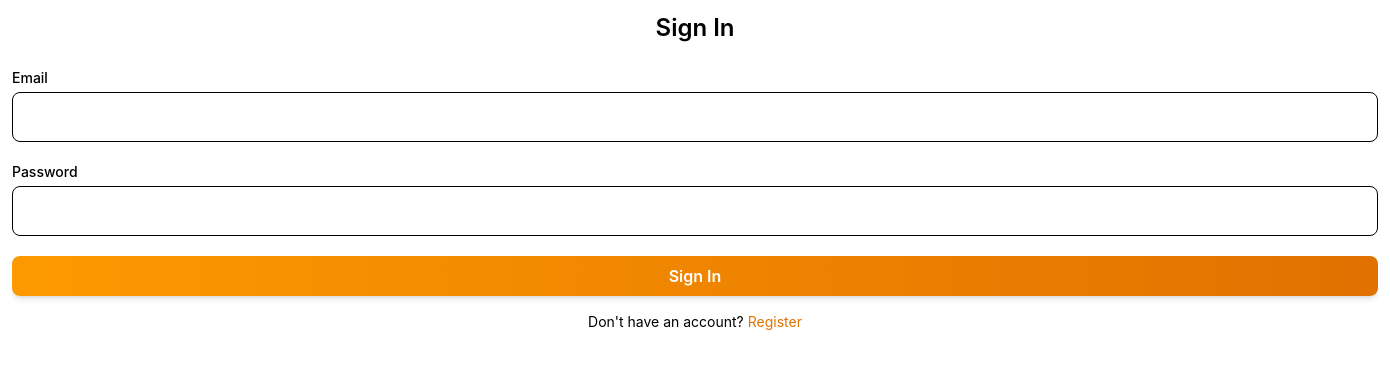
Test: Login › Login flow › failed login shows error message
Type "wrong@example.com" into the field labelled "Email".
click(695, 117); type("wrong@example.com")  # box 12,92 -> 1378,142
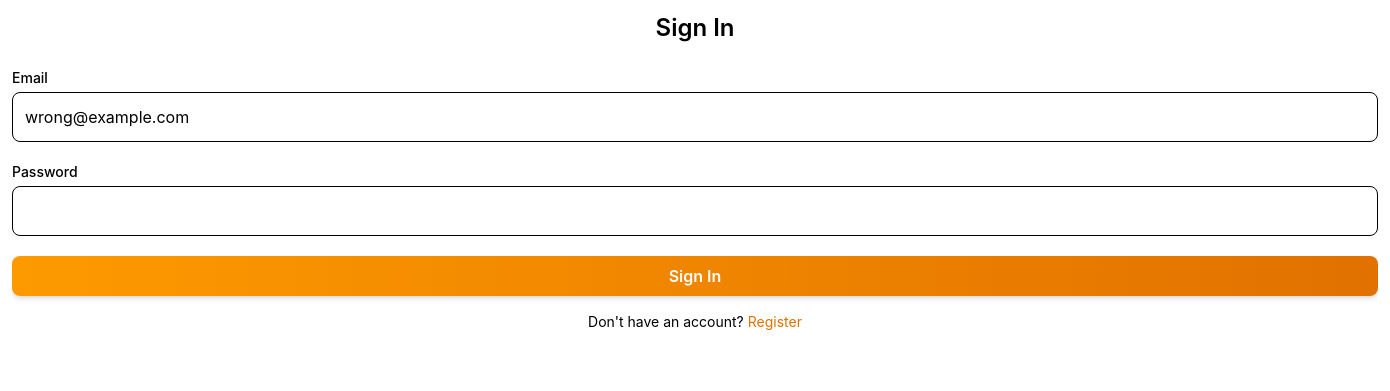
Type "wrongpass" into the password field labelled "Password".
click(695, 211); type("wrongpass")  # box 12,186 -> 1378,236
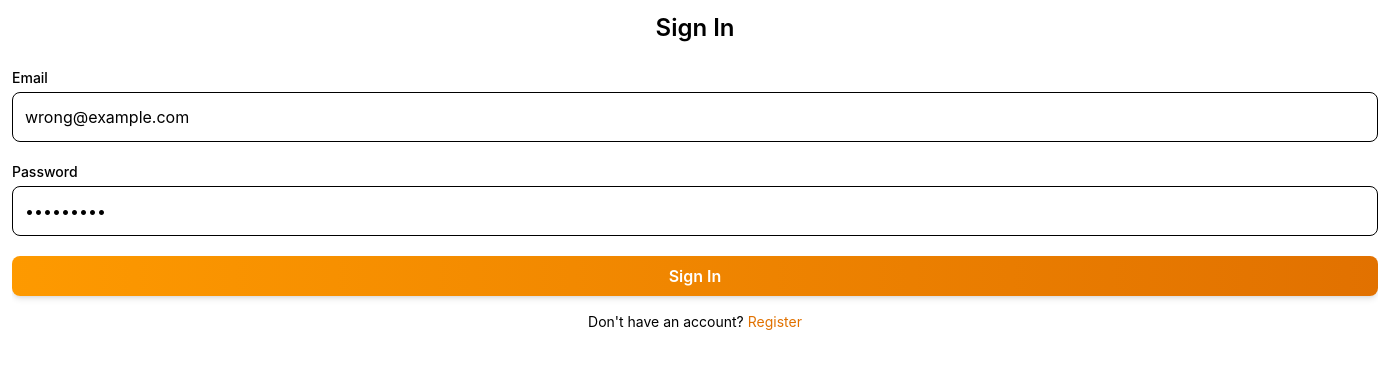
Click the button "Sign In".
click(695, 276)  # box 12,256 -> 1378,296
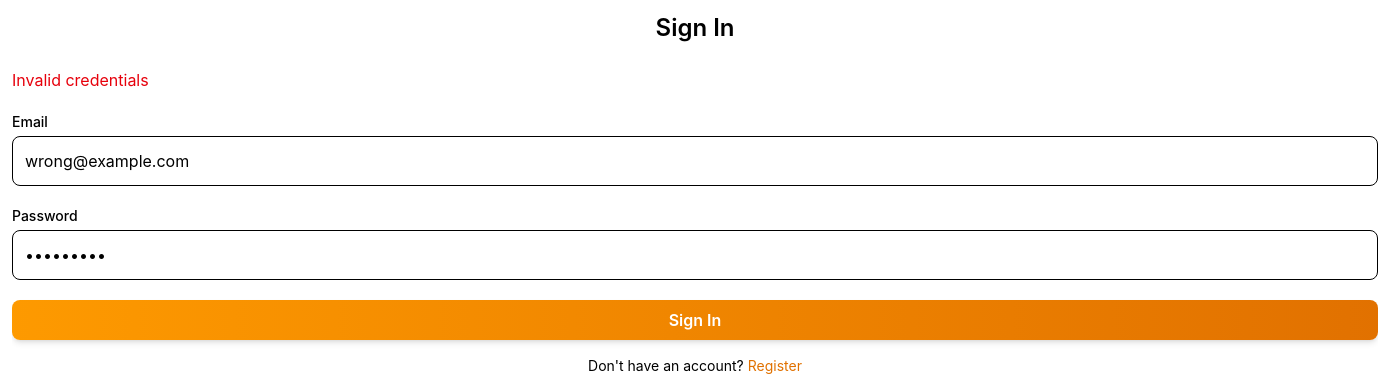
Now the text "Invalid credentials" is shown, box 12,70 -> 149,90
